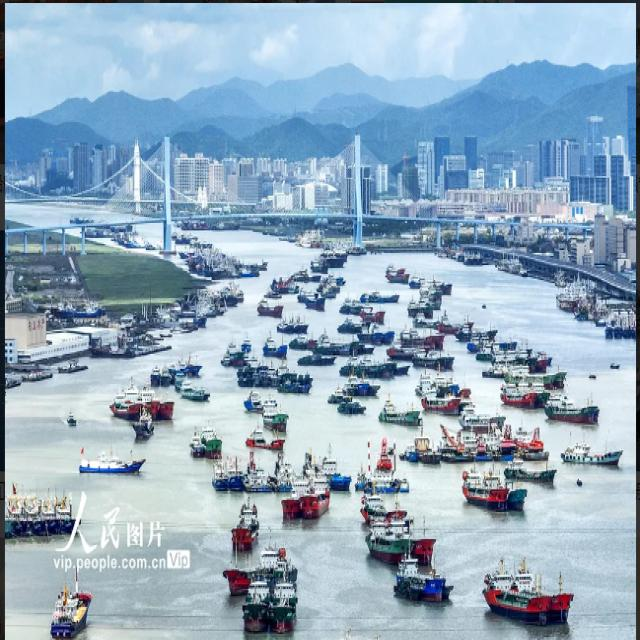fishing boat: (479, 558, 568, 618), (0, 494, 88, 532), (466, 463, 529, 515), (78, 441, 148, 484), (55, 566, 94, 636), (390, 551, 452, 594), (240, 559, 272, 636), (422, 363, 471, 410), (285, 468, 331, 516), (548, 385, 602, 423), (113, 382, 170, 418), (570, 434, 618, 473), (376, 396, 421, 433), (277, 566, 300, 637), (400, 423, 438, 462), (496, 385, 541, 415), (131, 396, 155, 440), (232, 505, 259, 544), (191, 422, 220, 458), (356, 354, 388, 385), (179, 378, 210, 404), (256, 289, 282, 318), (380, 266, 415, 284), (280, 311, 301, 336), (342, 314, 361, 338)
